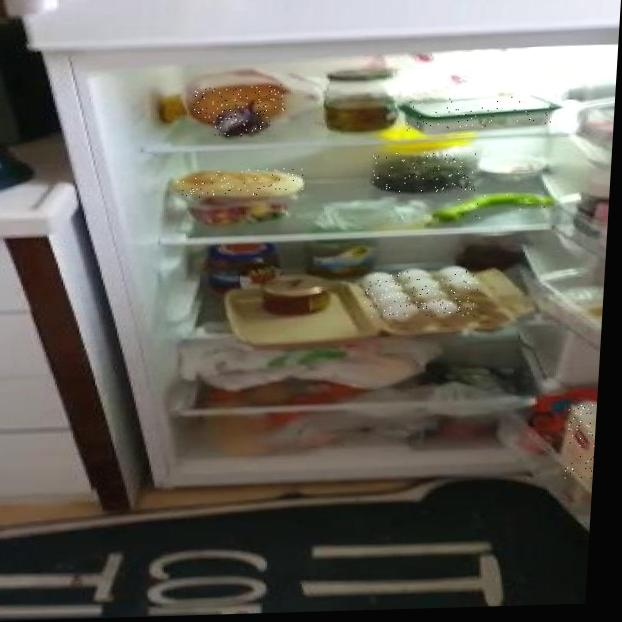bread: (176, 168, 305, 198), (192, 84, 286, 125)
cream cheese: (402, 95, 554, 131)
eggs: (363, 269, 479, 320)
green chilies: (433, 193, 551, 220)
milk: (565, 405, 597, 479)
olives: (371, 150, 480, 194)
red onion: (215, 106, 265, 137)
